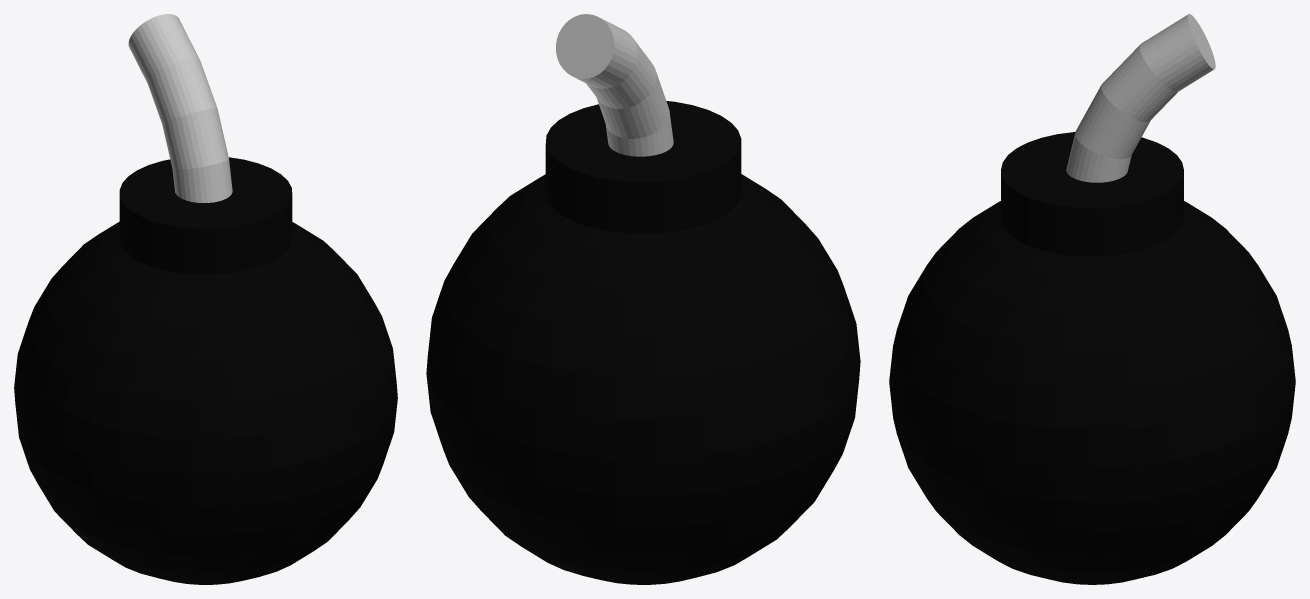
The model's file is bombItem.obj.
3 views of the same model, side by side, from view 1: azimuth 30°, elevation 25°; view 2: azimuth 150°, elevation 25°; view 3: azimuth 270°, elevation 25° (orthographic). The views are drawn at different scales.
Visible parts, largest first — view 1: 球; view 2: 球; view 3: 球.
Part boxes in pixels (x1,y1,x2,y2): 球: (14, 14, 397, 584); 球: (426, 14, 860, 584); 球: (889, 14, 1295, 584).
Bounding box in the file's own units: 2 × 2.98 × 2.
